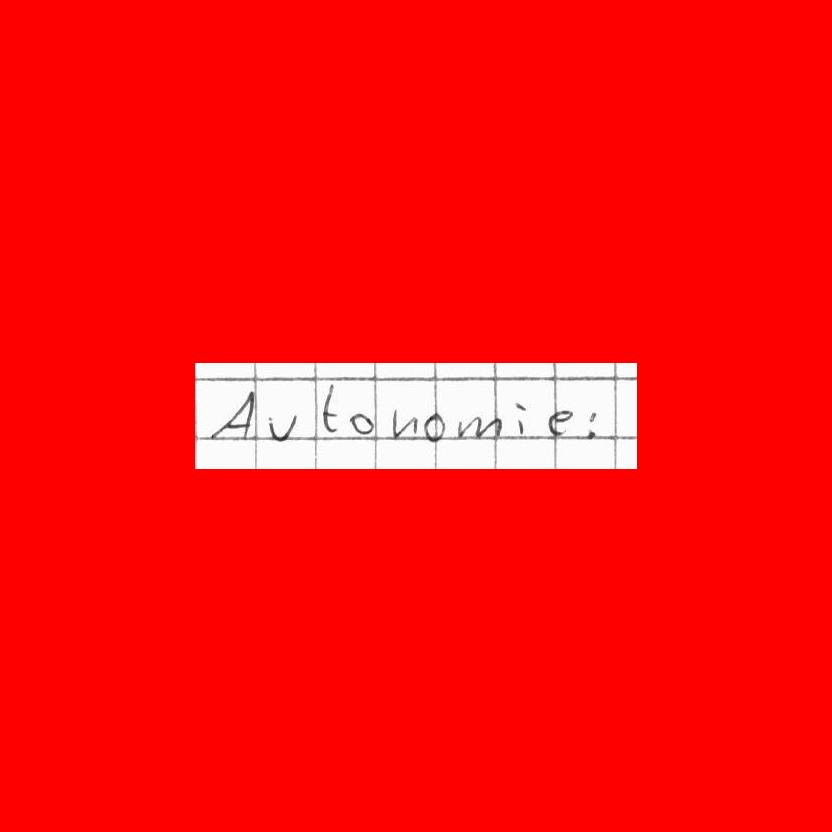Char: (211, 389, 257, 441), (453, 412, 501, 442), (389, 405, 418, 440), (320, 385, 340, 435), (267, 409, 297, 442), (546, 406, 574, 437), (348, 410, 375, 437), (422, 412, 446, 442), (512, 400, 530, 437), (585, 408, 600, 440)
